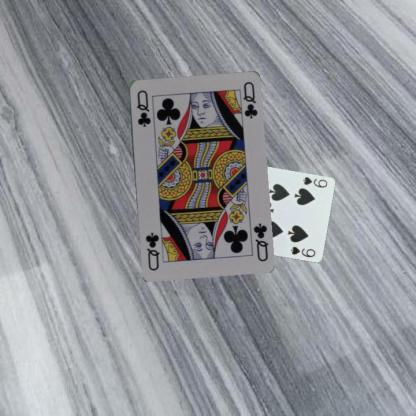9s: (300, 174, 328, 189)
Qc: (250, 220, 269, 263), (134, 87, 152, 128)
